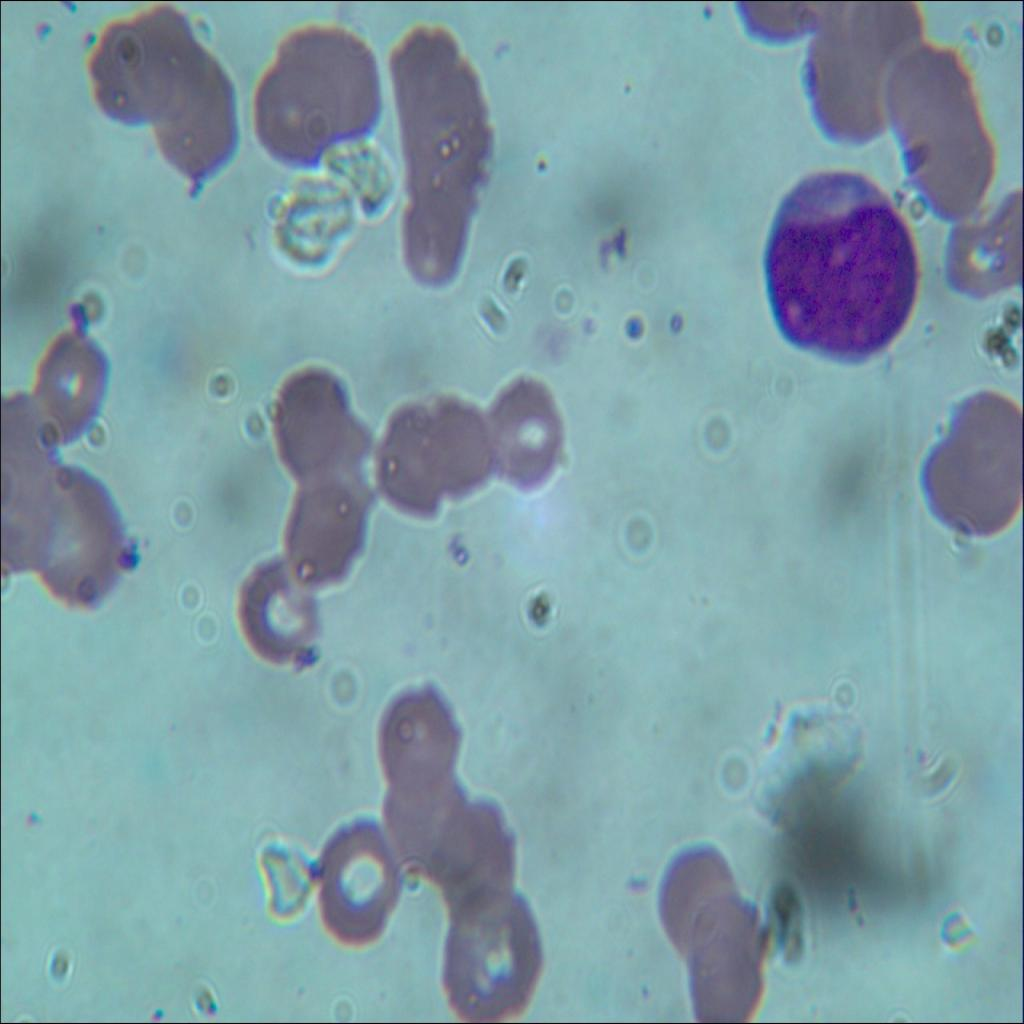Eritrosit: (909, 384, 1018, 541), (444, 885, 546, 1023), (382, 19, 484, 153), (875, 38, 980, 168), (310, 808, 406, 945), (30, 468, 126, 605), (276, 18, 382, 139), (682, 895, 768, 1023), (484, 368, 568, 494), (803, 29, 893, 145), (82, 10, 173, 124), (382, 766, 472, 881), (154, 52, 238, 175), (269, 365, 358, 481), (380, 678, 468, 795), (435, 801, 520, 921), (908, 114, 1001, 222), (251, 62, 341, 172), (401, 106, 490, 216), (282, 472, 366, 588), (233, 558, 323, 665), (658, 840, 738, 958), (938, 191, 1023, 301), (30, 335, 118, 438), (426, 385, 498, 506), (129, 4, 201, 125), (373, 396, 441, 524), (834, 0, 926, 91), (398, 186, 470, 288)
Limfoblast: (768, 165, 921, 362)
Platelet: (60, 291, 93, 346), (100, 544, 148, 577), (594, 227, 628, 272), (286, 644, 326, 682), (440, 531, 471, 579), (176, 165, 206, 208), (661, 307, 688, 349), (303, 848, 328, 891), (526, 152, 549, 198), (18, 14, 55, 41), (618, 312, 646, 342), (695, 0, 715, 32), (81, 26, 101, 49), (60, 0, 75, 21)
